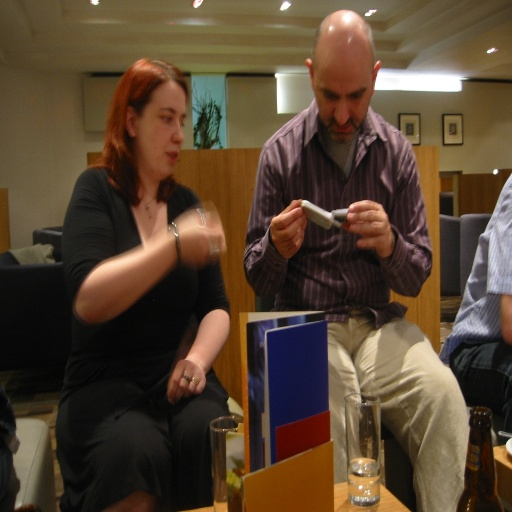hand: (345, 190, 399, 258), (174, 207, 226, 266), (269, 199, 308, 259), (166, 356, 207, 401)
